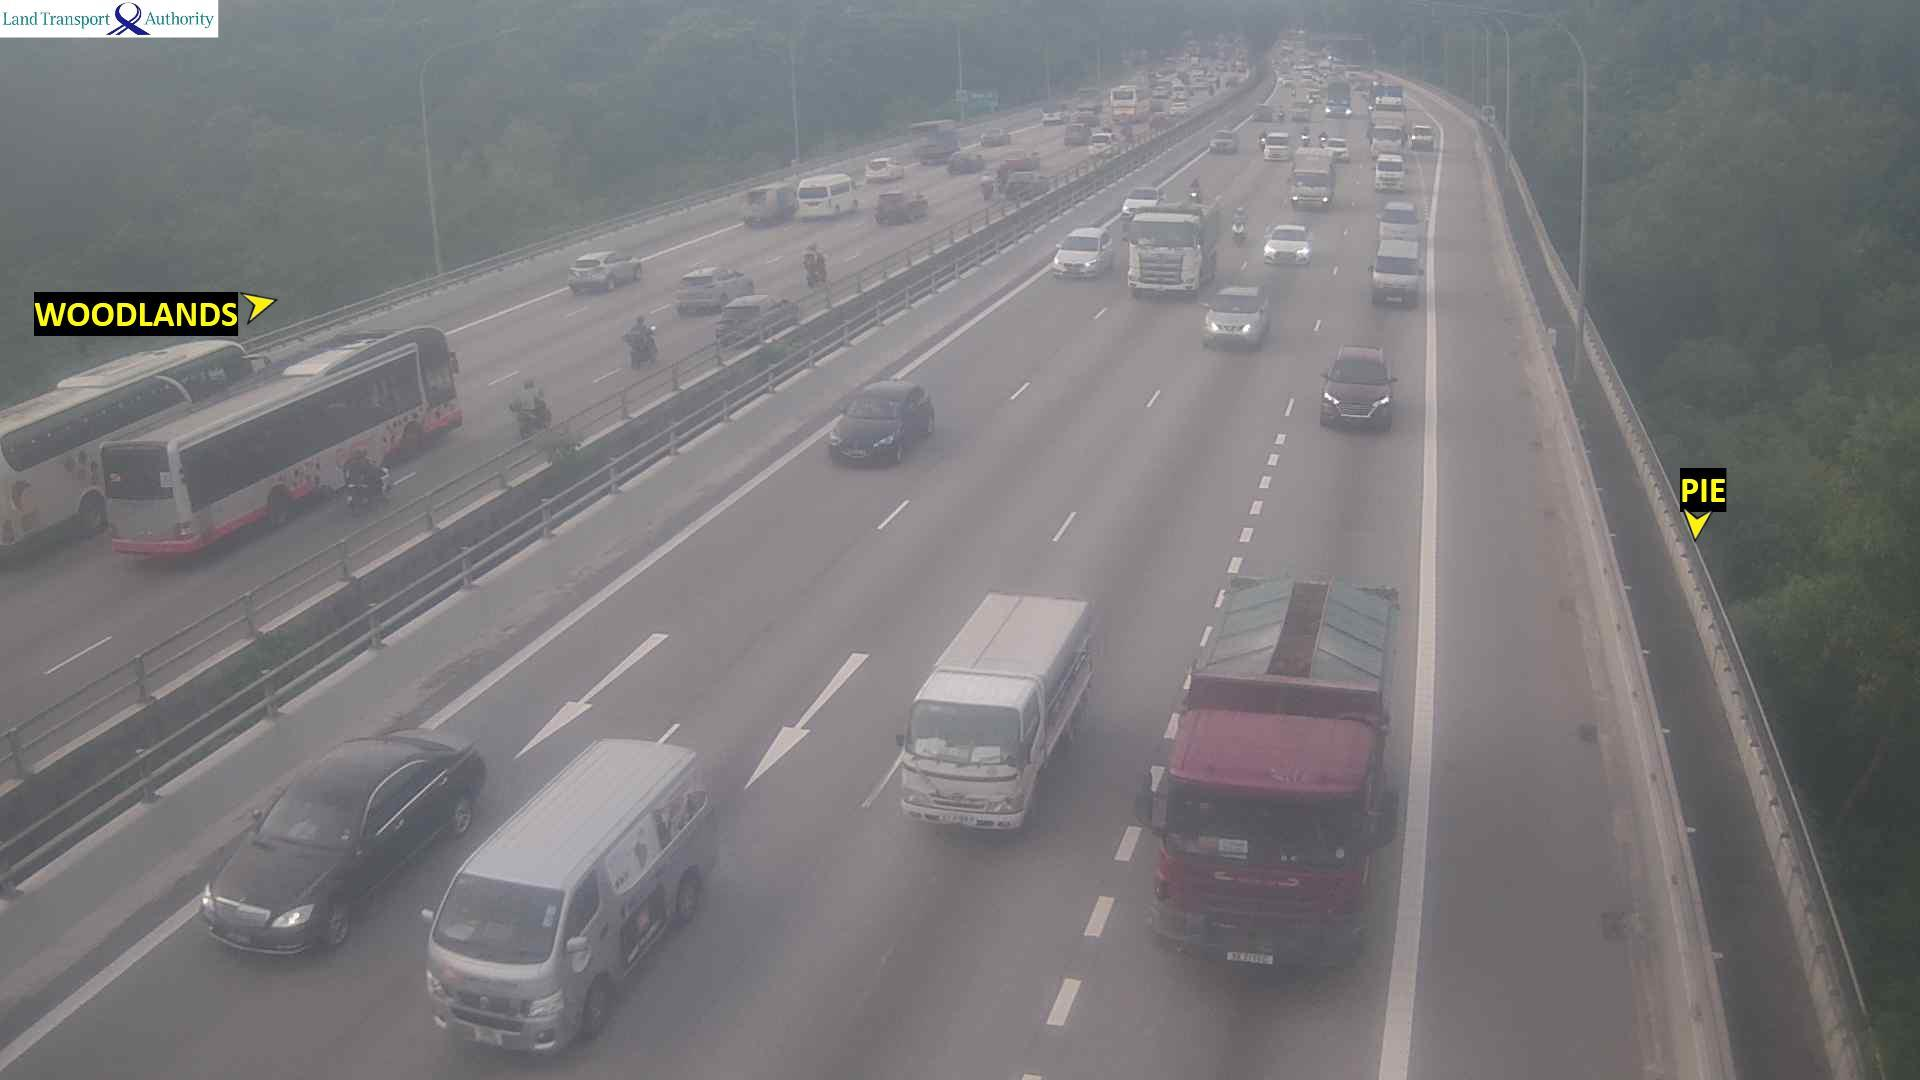incoming: (1134, 737, 1406, 977), (415, 853, 600, 1062), (196, 778, 375, 971), (891, 695, 1036, 845), (815, 386, 915, 469), (1312, 353, 1400, 436), (1124, 216, 1207, 299), (1366, 251, 1425, 310), (1204, 290, 1265, 348), (1054, 229, 1100, 285), (1261, 225, 1316, 269), (1287, 170, 1333, 215), (1377, 206, 1423, 245), (1367, 156, 1411, 193), (1262, 132, 1292, 164), (1209, 131, 1238, 157), (1233, 219, 1251, 243)
